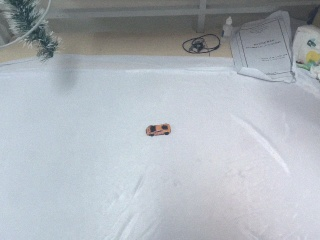toy_car: (146, 123, 171, 137)
